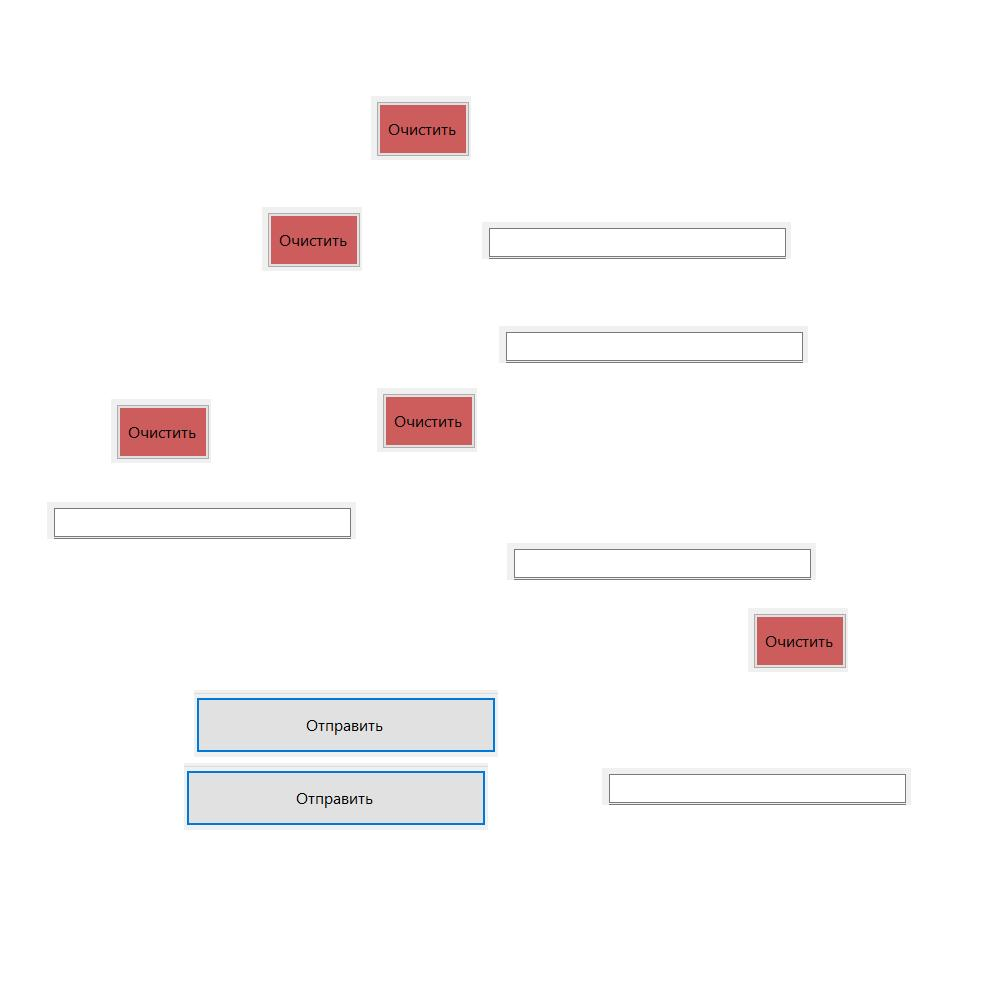Button: (184, 763, 488, 830), (194, 690, 498, 757), (371, 96, 471, 160), (748, 608, 848, 672), (262, 207, 362, 271), (377, 388, 477, 452), (111, 399, 211, 463)
EditText-: (47, 502, 356, 539), (499, 326, 808, 363), (507, 543, 816, 580), (602, 768, 911, 805), (482, 222, 791, 259)
